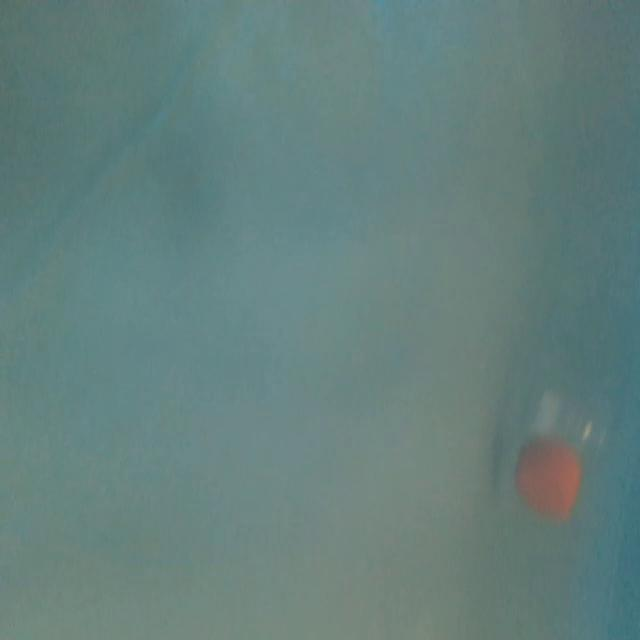plastic bottle: (515, 270, 629, 524)
